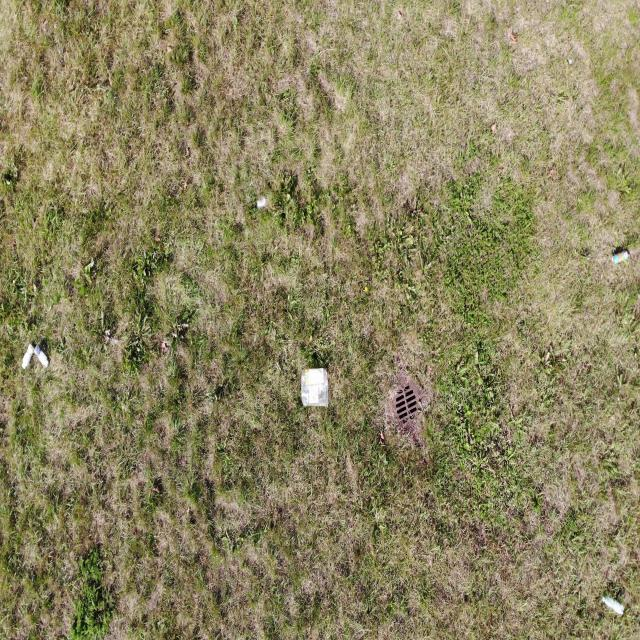rubbish: (300, 367, 329, 407), (602, 597, 624, 615), (34, 344, 48, 367), (22, 344, 34, 369), (612, 250, 628, 263), (256, 198, 267, 209)
